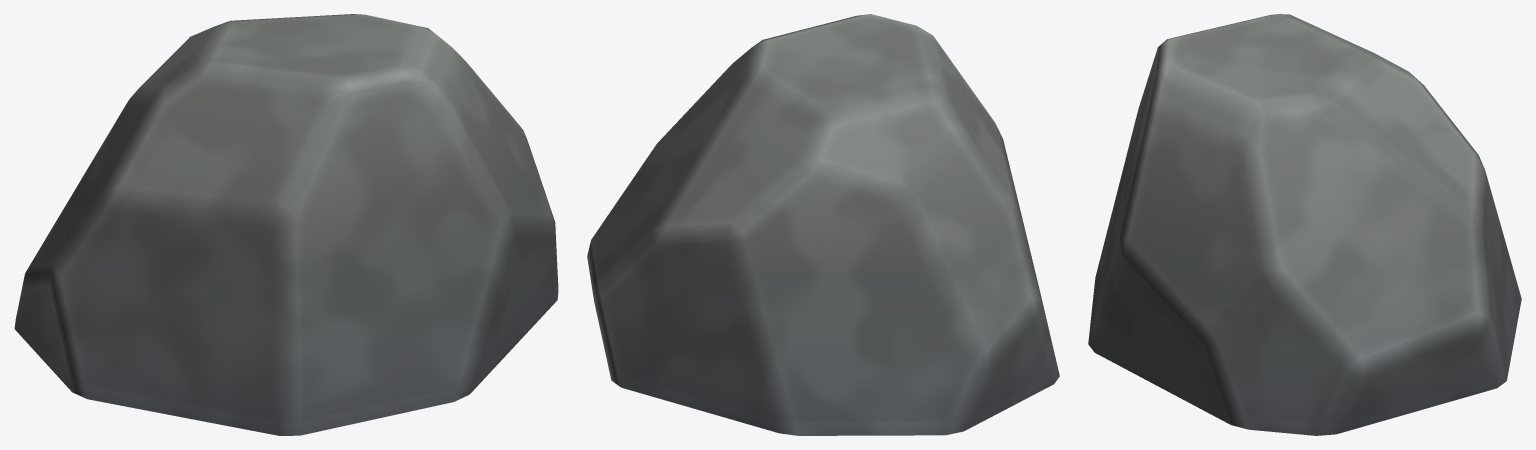
File: boulder_2.glb
3 renders of one model, left to right at view 1: azimuth 30°, elevation 25°; view 2: azimuth 150°, elevation 25°; view 3: azimuth 270°, elevation 25°, orthographic. The views are drawn at different scales.
Parts seen in each view (by area): view 1: boulder_2; view 2: boulder_2; view 3: boulder_2.
Boxes of the visible parts, x1,y1,x2,y2 form: boulder_2: (14,14,558,435); boulder_2: (587,14,1059,435); boulder_2: (1088,14,1521,435).
Bounding box in the file's own units: 2 × 1.2 × 1.7.
Materials: 1 (1 with a texture image).
